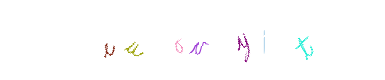1: (251, 0, 331, 80)
E: (91, 0, 171, 80)
O: (147, 0, 227, 80)
T: (264, 0, 344, 80)
U: (132, 0, 212, 80)
V: (152, 0, 232, 80)
Y: (180, 0, 260, 80)
